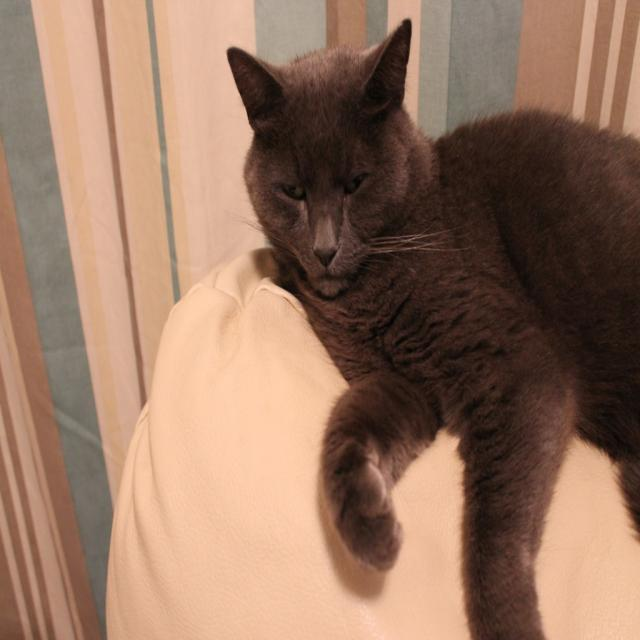Cat: (224, 13, 638, 636)
